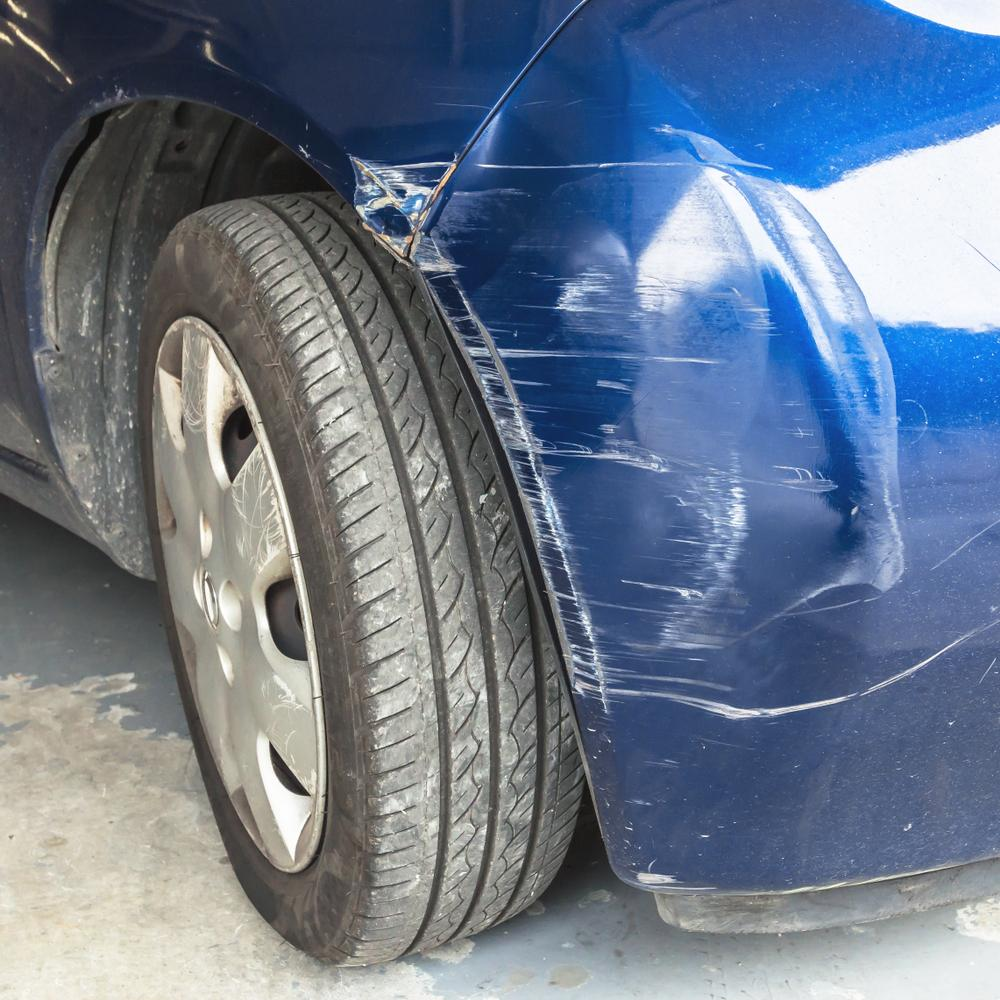scratch: (405, 121, 1000, 751), (350, 150, 462, 252)
